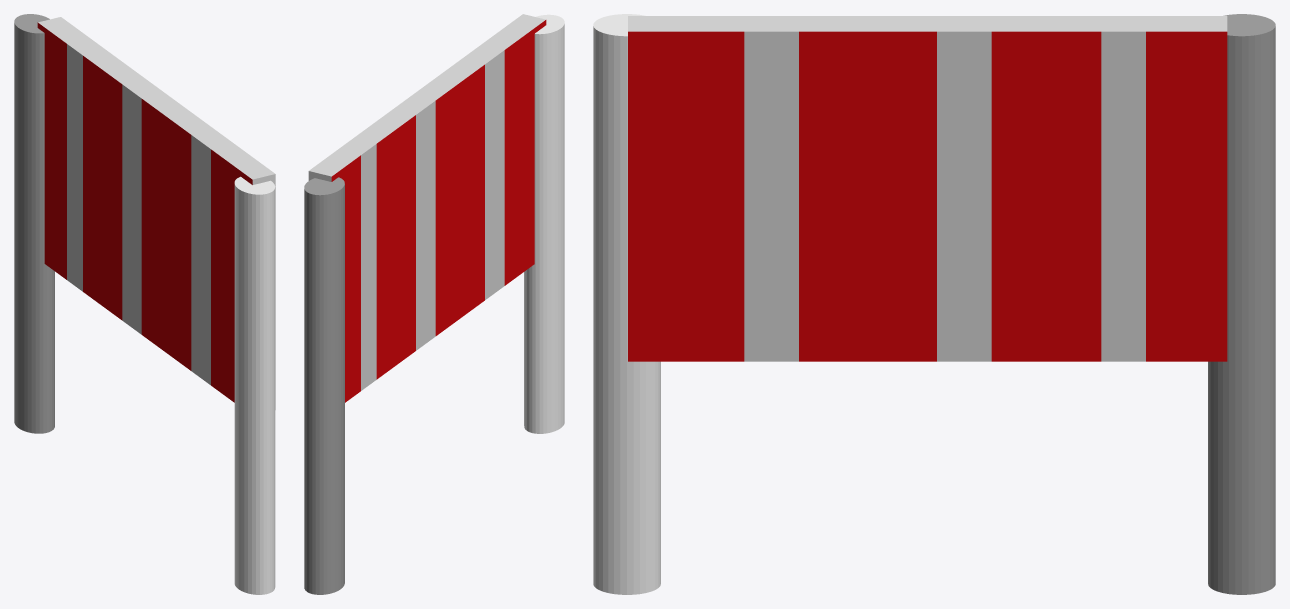
File: valla.fbx
The picture shows the model from 3 angles, left to right: view 1: azimuth 30°, elevation 25°; view 2: azimuth 150°, elevation 25°; view 3: azimuth 270°, elevation 25°; orthographic projection. The views are drawn at different scales.
Parts seen in each view (by area): view 1: Cube, Cylinder, Cylinder.001; view 2: Cube, Cylinder.001, Cylinder; view 3: Cube, Cylinder.001, Cylinder.
Part boxes in pixels (box(x1,y1,x2,y2)): Cube: box(37, 17, 275, 409); Cylinder: box(234, 176, 275, 594); Cylinder.001: box(14, 14, 54, 433); Cube: box(308, 14, 546, 402); Cylinder.001: box(304, 177, 344, 594); Cylinder: box(524, 14, 564, 433); Cube: box(628, 16, 1227, 361); Cylinder.001: box(1208, 14, 1275, 594); Cylinder: box(593, 14, 660, 594).
Bounding box in the file's own units: 33.16 × 343 × 375.
